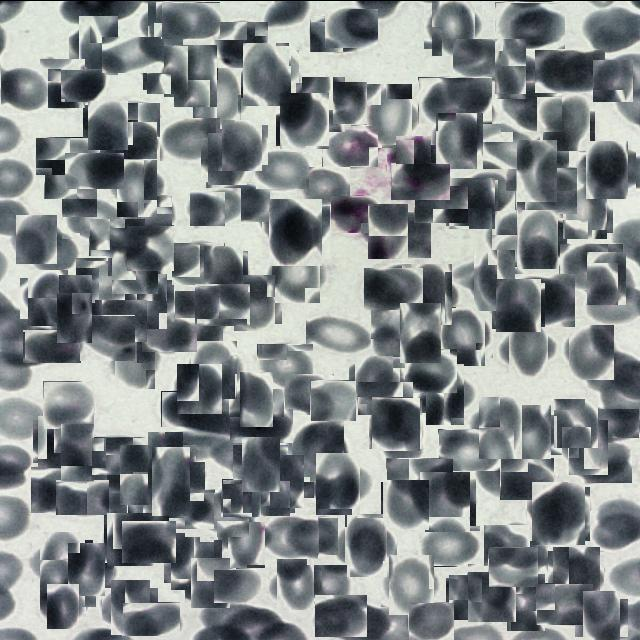red blood cell: (266, 202, 326, 262), (418, 76, 492, 123), (530, 483, 588, 542), (511, 273, 575, 326), (290, 421, 347, 479), (496, 1, 566, 48), (386, 457, 453, 505), (190, 68, 246, 124), (239, 45, 295, 101), (399, 265, 455, 321), (170, 294, 227, 349), (501, 82, 562, 132), (535, 49, 605, 92), (559, 242, 623, 289), (269, 245, 324, 299), (418, 474, 473, 528), (144, 453, 198, 508), (362, 88, 416, 142), (366, 308, 420, 362), (312, 456, 366, 510), (516, 166, 578, 213), (36, 535, 89, 589), (478, 122, 540, 168), (186, 492, 250, 536), (339, 518, 392, 571), (385, 557, 438, 610), (169, 48, 222, 101), (474, 401, 527, 454), (540, 94, 592, 148), (188, 343, 241, 395), (468, 253, 520, 306), (75, 256, 134, 302), (306, 313, 372, 354), (437, 309, 489, 361), (550, 548, 602, 600), (434, 114, 486, 166), (278, 94, 330, 146), (394, 306, 446, 358), (512, 144, 564, 196), (62, 194, 123, 238), (106, 512, 157, 564), (160, 118, 220, 162), (418, 524, 480, 566), (438, 428, 500, 470), (370, 398, 421, 449), (213, 20, 268, 67), (363, 266, 423, 309), (79, 314, 135, 360), (206, 181, 270, 221), (568, 442, 632, 482), (151, 488, 215, 528), (428, 1, 478, 52), (504, 322, 554, 373), (506, 408, 556, 459), (168, 535, 218, 586), (31, 466, 86, 512), (258, 343, 314, 388), (74, 20, 124, 70), (420, 368, 470, 418), (560, 185, 610, 235), (567, 326, 617, 376), (298, 79, 348, 129), (582, 144, 632, 194), (512, 214, 562, 264), (468, 571, 518, 621), (494, 280, 544, 330), (113, 162, 162, 212), (43, 380, 94, 428), (44, 152, 97, 198), (536, 582, 594, 624), (35, 136, 99, 174), (194, 282, 250, 325), (121, 276, 170, 325), (322, 124, 378, 166), (24, 273, 72, 322), (448, 178, 497, 226), (142, 437, 190, 486), (172, 241, 226, 284), (266, 515, 320, 558), (223, 514, 271, 562), (230, 278, 278, 326), (488, 214, 536, 262), (36, 416, 84, 464), (106, 582, 154, 630), (502, 578, 550, 626), (364, 206, 412, 254), (382, 481, 431, 528), (405, 348, 457, 392), (500, 457, 554, 499), (122, 520, 176, 562), (112, 245, 159, 293), (176, 364, 223, 412), (102, 36, 164, 72), (111, 338, 158, 385), (237, 440, 284, 487), (552, 399, 599, 446), (38, 60, 86, 106), (126, 224, 174, 270), (566, 422, 612, 470), (95, 299, 147, 341), (315, 594, 367, 636), (161, 1, 220, 38), (391, 162, 450, 199), (91, 436, 148, 474), (384, 211, 431, 257), (1, 68, 48, 114), (114, 451, 160, 498), (453, 38, 507, 78), (78, 468, 127, 512), (90, 217, 146, 255), (65, 152, 124, 188), (204, 134, 250, 180), (219, 121, 265, 167), (64, 546, 110, 592), (584, 254, 630, 300), (487, 45, 533, 91), (100, 121, 157, 158), (298, 166, 352, 205), (28, 232, 80, 272), (14, 216, 59, 262), (579, 594, 624, 640), (325, 8, 378, 47), (298, 564, 347, 606), (414, 184, 468, 222), (462, 170, 513, 210), (189, 186, 241, 225), (188, 559, 233, 604), (145, 46, 190, 91), (273, 560, 318, 605), (54, 430, 100, 474), (200, 248, 246, 292), (285, 373, 334, 414), (22, 328, 81, 362), (488, 546, 538, 586), (352, 358, 397, 402), (391, 140, 436, 184), (122, 601, 180, 635), (256, 151, 309, 188), (158, 432, 228, 460), (55, 478, 109, 514), (330, 194, 381, 232), (86, 102, 130, 146), (53, 279, 97, 323), (265, 458, 309, 502), (234, 377, 278, 421), (127, 504, 171, 547), (126, 194, 172, 235), (484, 524, 530, 565), (310, 379, 356, 420), (142, 317, 197, 351), (358, 380, 413, 414), (289, 516, 338, 554), (110, 101, 160, 138), (53, 295, 96, 338), (48, 568, 96, 606), (448, 575, 490, 618), (144, 5, 186, 48), (161, 390, 211, 426), (250, 472, 292, 514), (592, 59, 634, 101), (408, 601, 454, 639), (222, 478, 268, 516), (579, 408, 639, 437), (310, 16, 357, 52), (213, 568, 261, 602), (60, 67, 106, 101), (44, 586, 83, 624), (332, 83, 369, 121)
ring: (230, 408, 293, 442)
